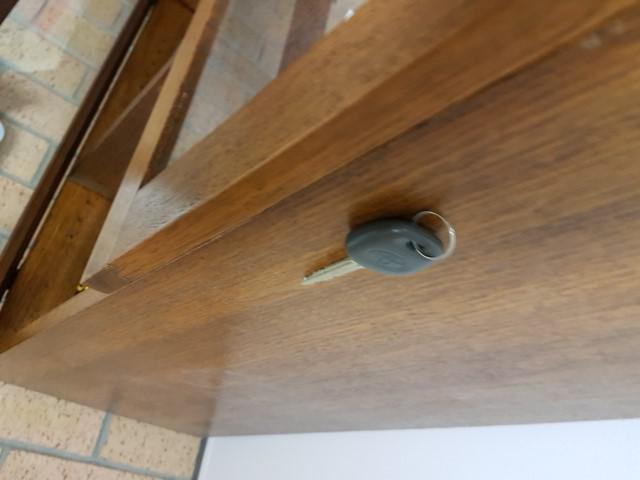key: (293, 211, 456, 293)
